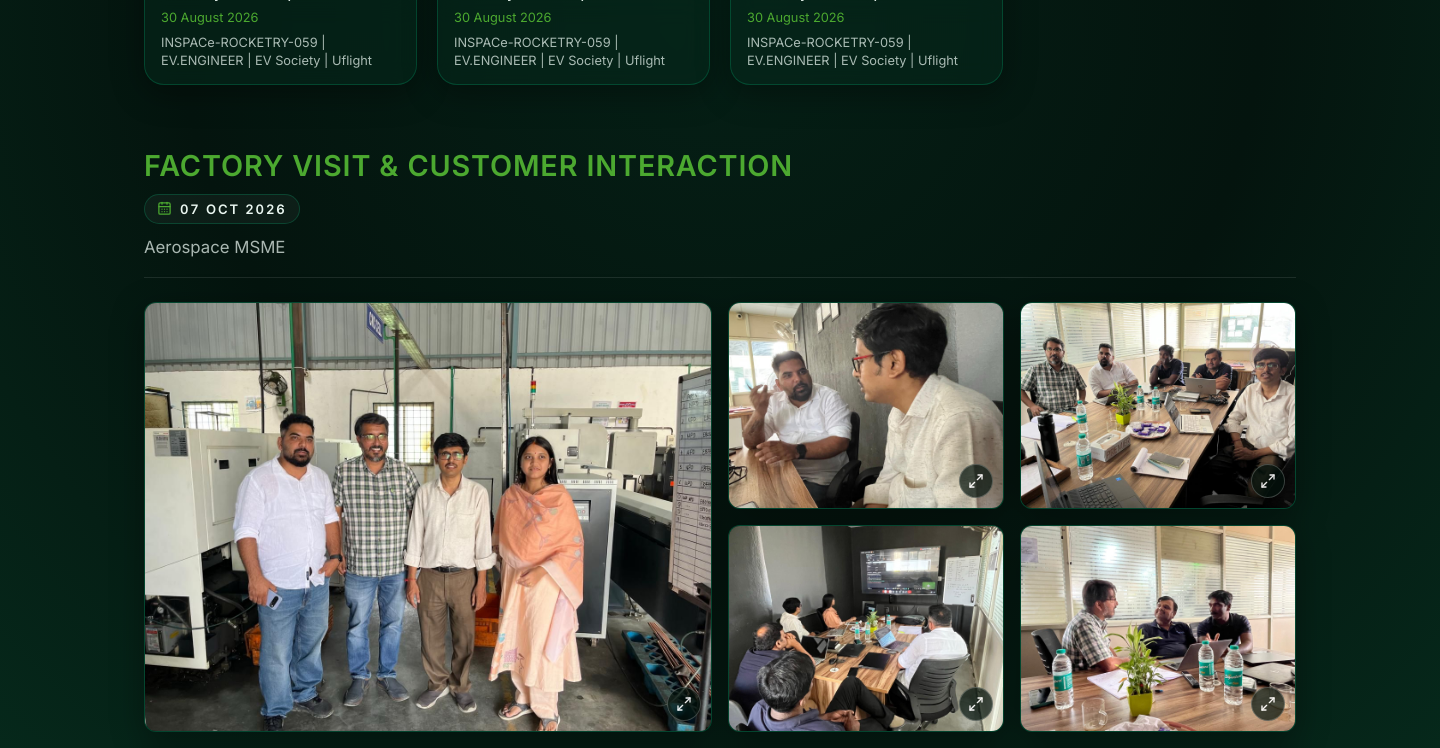
Test: /workshop-gallery — Factory Visit & Customer Interaction › opens the selected photo in the viewer
The image size is (1440, 748).
(page scrolled)
What coordinates should you click on to do the following:
click the button named "Factory Visit & Customer Interaction — Aerospace MSME — 07 October 2026 — Photo 3"
I would click on:
 (1158, 405)
Its box is left=1020, top=302, right=1296, bottom=509.
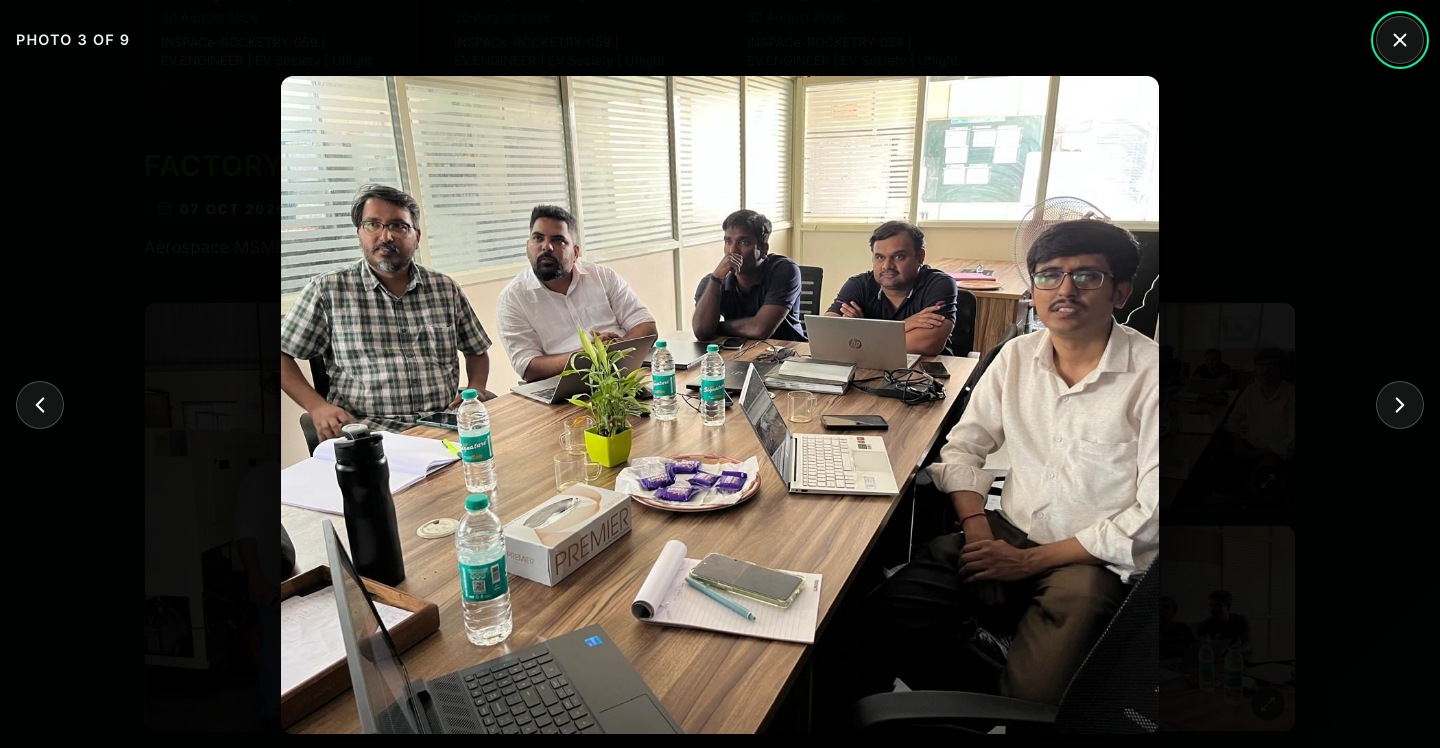
Result: the text "Photo 3 of 9" is shown at left=16, top=28, right=130, bottom=52
